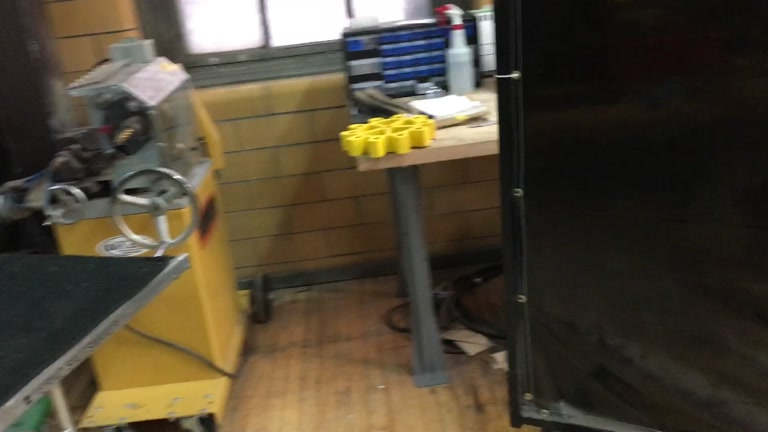gear: (339, 113, 437, 159)
